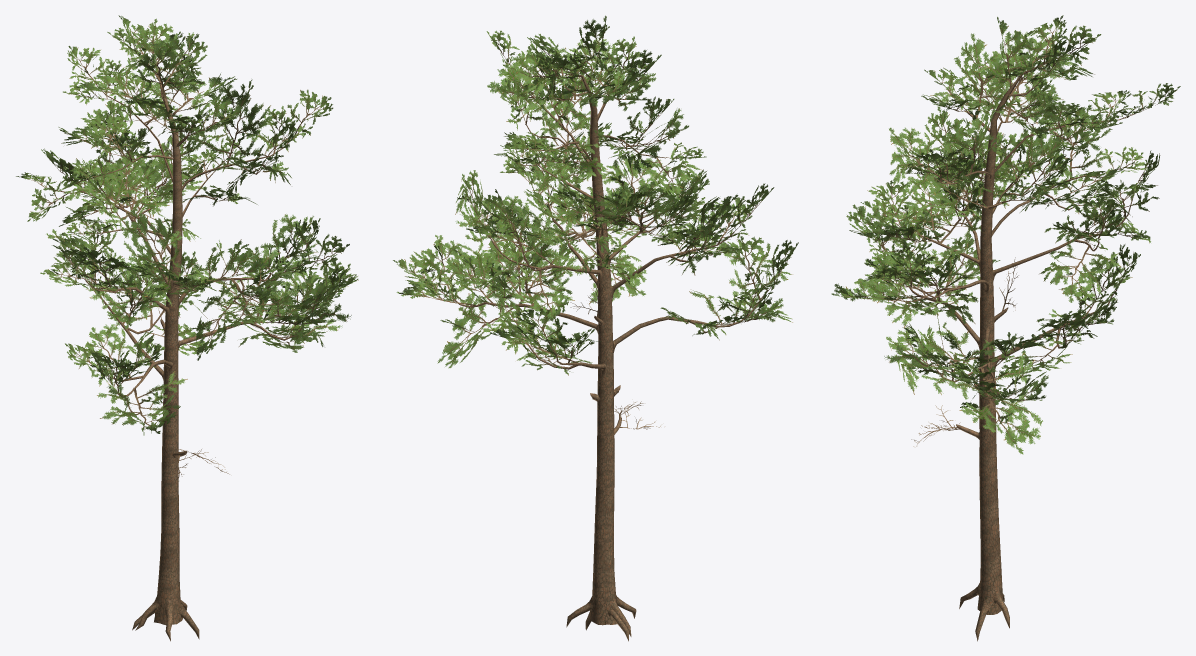
3 views of the same model, side by side, from view 1: azimuth 30°, elevation 25°; view 2: azimuth 150°, elevation 25°; view 3: azimuth 270°, elevation 25° (orthographic). The views are drawn at different scales.
Parts seen in each view (by area): view 1: Pine_big_2_LOD0_Bark_Mat_0; view 2: Pine_big_2_LOD0_Bark_Mat_0; view 3: Pine_big_2_LOD0_Bark_Mat_0.
Part boxes in pixels (x1,y1,x2,y2): Pine_big_2_LOD0_Bark_Mat_0: (16,15,358,641); Pine_big_2_LOD0_Bark_Mat_0: (393,15,798,641); Pine_big_2_LOD0_Bark_Mat_0: (831,15,1180,641).
Bounding box in the file's own units: 9.31 × 16.19 × 8.48.
